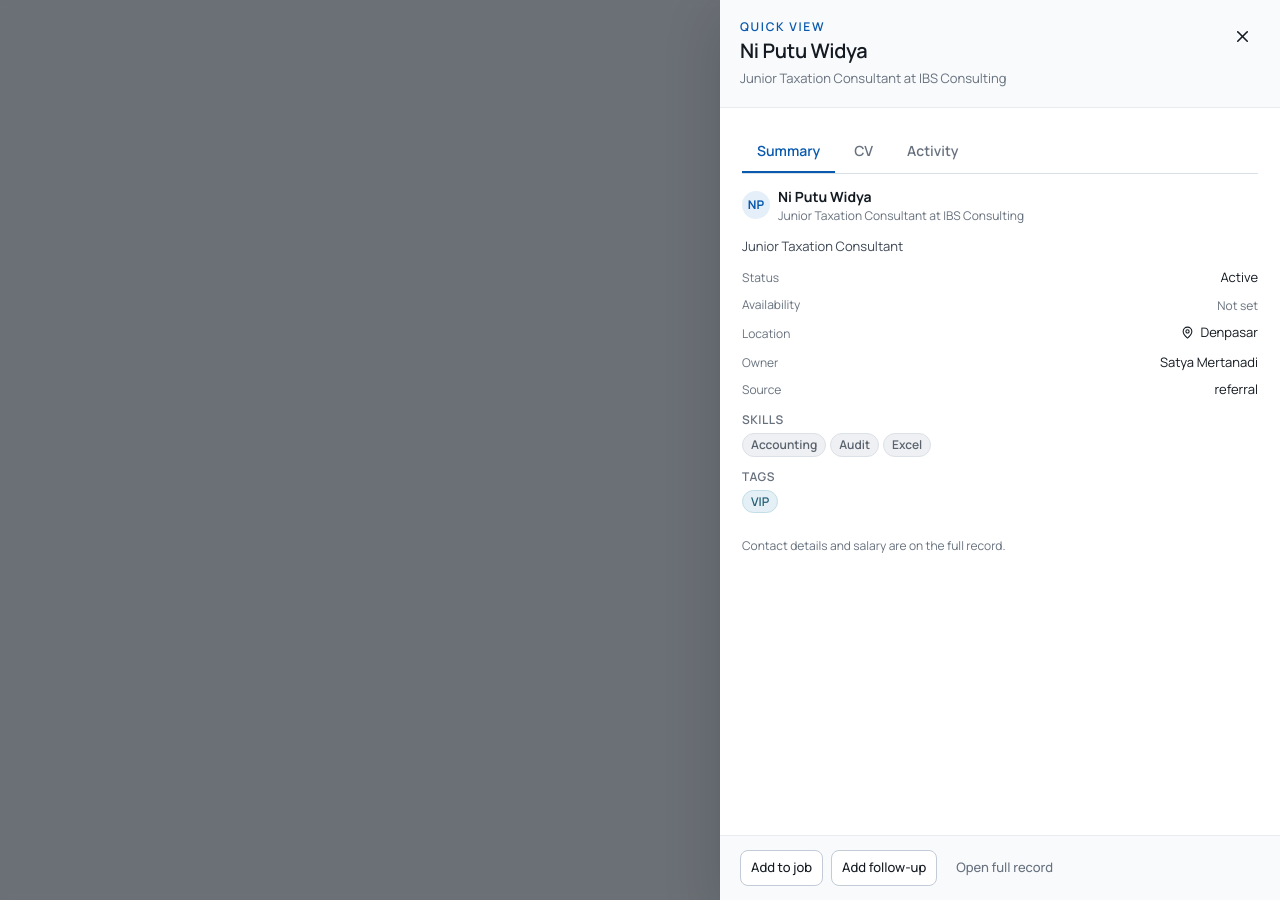
Scenario: CandidateQuickViewDrawer › says a document is unavailable rather than linking nowhere when it cannot be signed
Click the tab "CV".
click(864, 151)  # box x1=839 y1=130 x2=888 y2=172
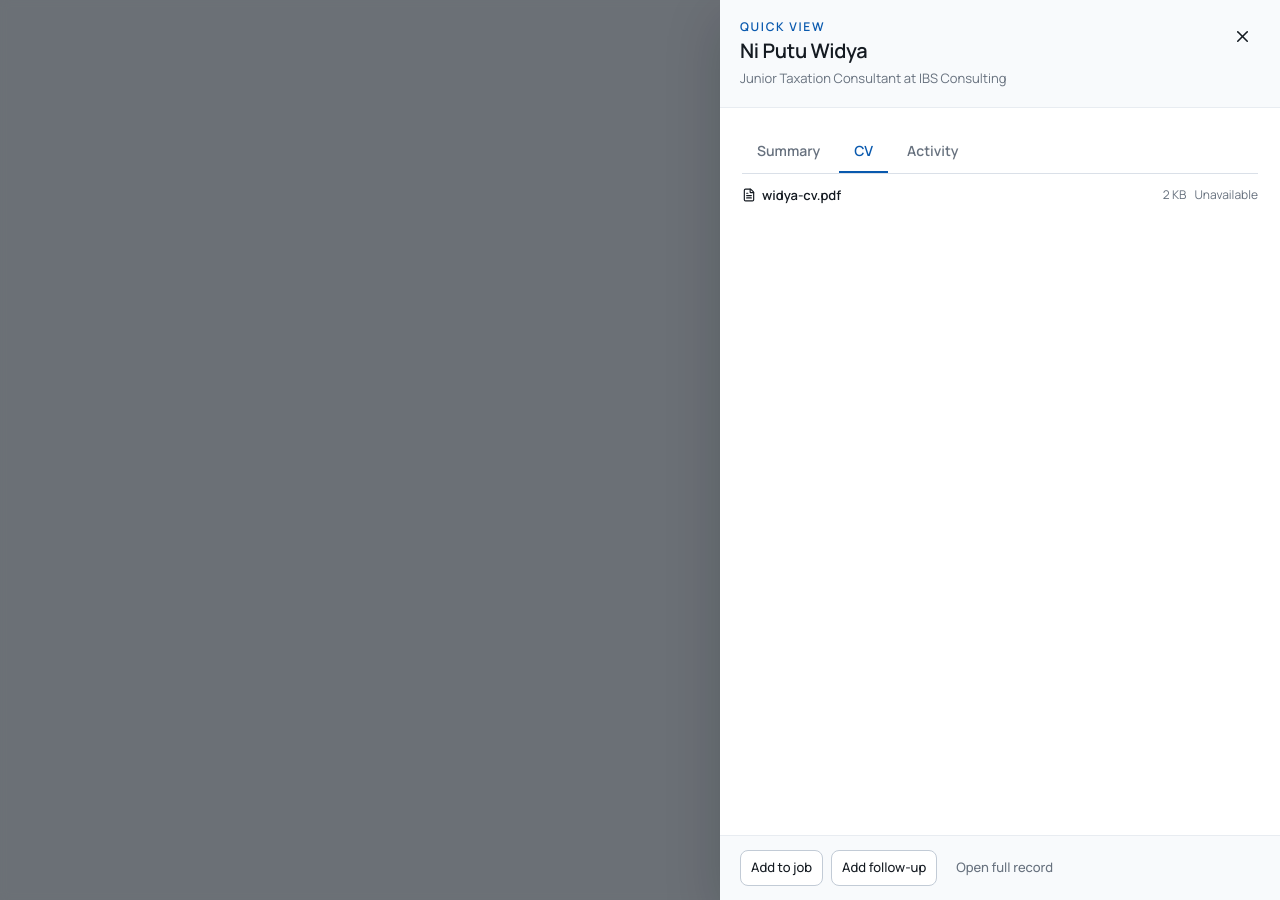
Result: the text "Unavailable" is shown at x1=1194 y1=186 x2=1258 y2=204
